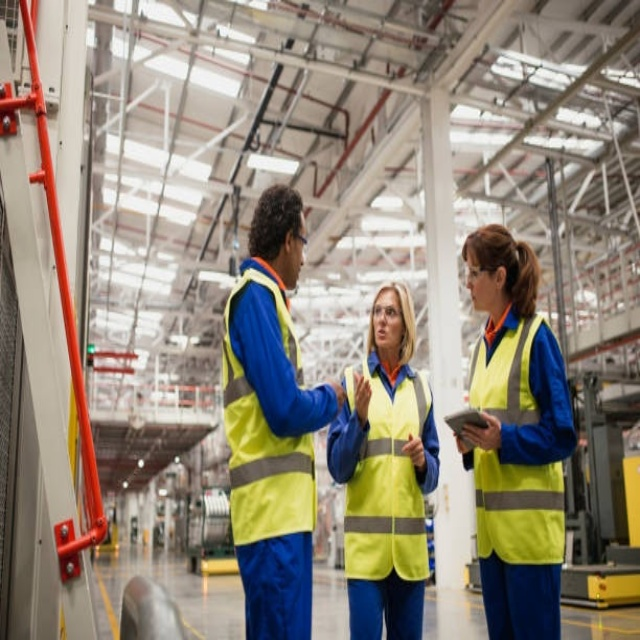Gafas: (465, 264, 493, 280), (373, 306, 403, 319), (292, 231, 308, 248)
Sin_guantes: (457, 410, 500, 454), (350, 369, 372, 420), (400, 430, 424, 467)
Sin_mascara: (284, 257, 304, 289), (467, 284, 485, 312), (374, 323, 389, 345)
